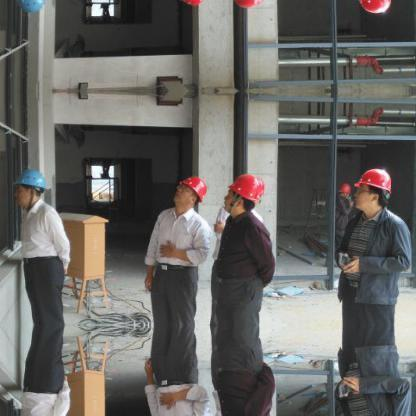helmet: (227, 172, 262, 203), (355, 167, 396, 193), (176, 175, 212, 204), (11, 169, 51, 192), (340, 181, 352, 191)
